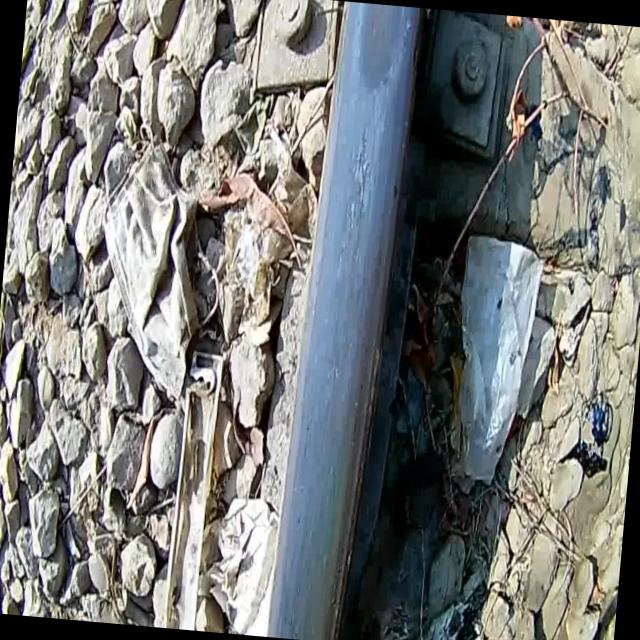Squats: (248, 0, 446, 640)
